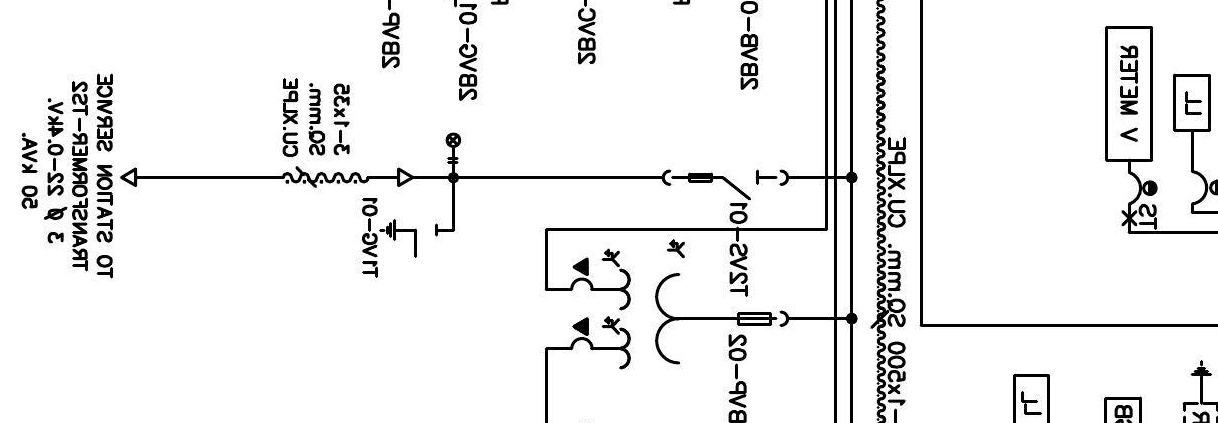22_ds: (661, 169, 790, 201)
22_gs: (379, 219, 438, 259)
22_ll: (445, 132, 462, 164)
22_vt_3p: (569, 239, 789, 371)
LL: (1172, 73, 1212, 133)
terminator_single: (396, 166, 415, 188), (119, 167, 138, 189)
v_m_digital: (1104, 25, 1154, 163)
